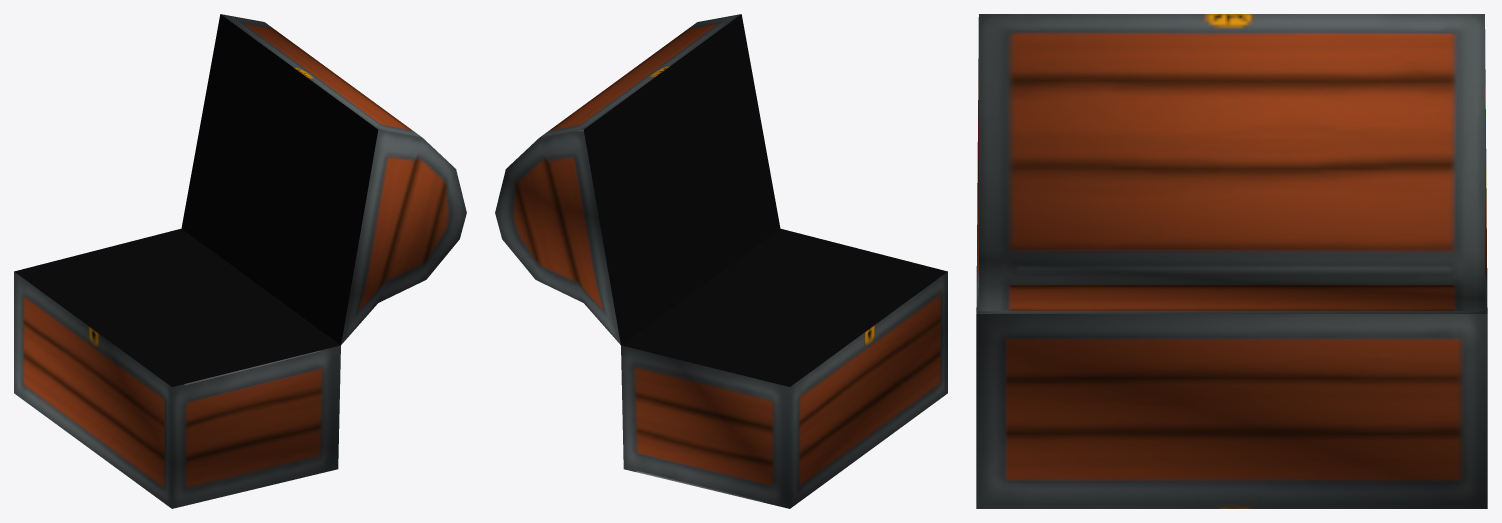
The model's file is cofrenormal_000010.obj.
3 renders of one model, left to right at view 1: azimuth 30°, elevation 25°; view 2: azimuth 150°, elevation 25°; view 3: azimuth 270°, elevation 25°, orthographic. The views are drawn at different scales.
Visible parts, largest first — view 1: cofre; view 2: cofre; view 3: cofre.
Boxes of the visible parts, left/top/right/bottom form: cofre: left=14, top=14, right=466, bottom=508; cofre: left=495, top=14, right=947, bottom=508; cofre: left=976, top=14, right=1487, bottom=508.
Size of the model in its own units: 6.76 by 7.2 by 6.34.
